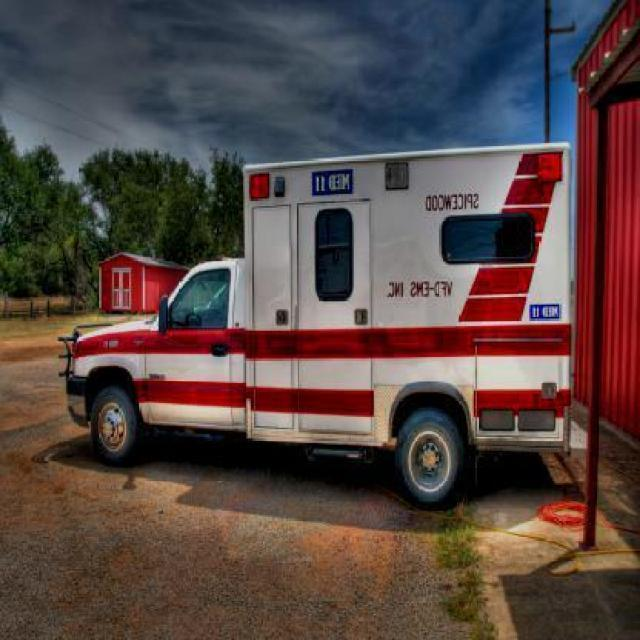emergency: (56, 140, 576, 508)
